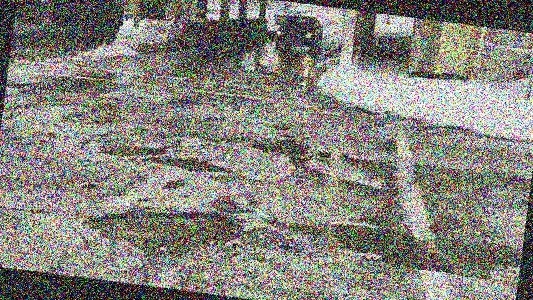pothole: (325, 217, 523, 285), (81, 194, 248, 269), (79, 128, 180, 168), (146, 150, 235, 177), (245, 128, 313, 160)
